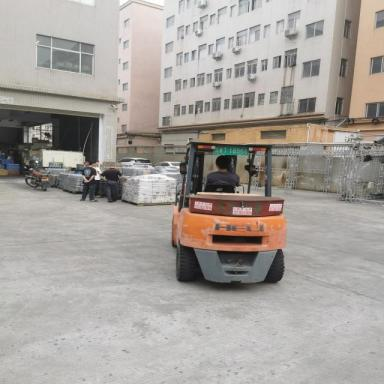forklift: (168, 138, 292, 290)
